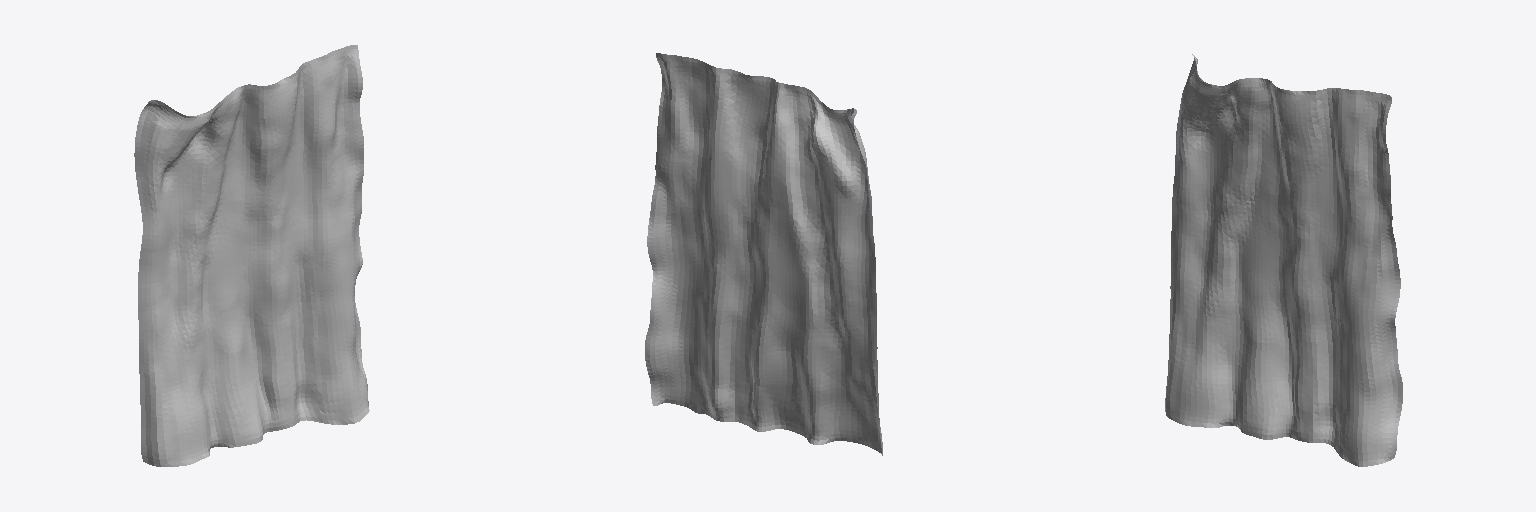
File: SM_Curtain_highpoly_02_2.OBJ
3 views of the same model, side by side, from view 1: azimuth 30°, elevation 25°; view 2: azimuth 150°, elevation 25°; view 3: azimuth 330°, elevation 25° (orthographic).
Visible parts, largest first — view 1: Group1; view 2: Group1; view 3: Group1.
Part boxes in pixels (bbox=[...]): Group1: bbox=[134, 45, 369, 466]; Group1: bbox=[645, 53, 882, 455]; Group1: bbox=[1165, 54, 1402, 466].
Size of the model in its own units: 2.18 by 3.32 by 0.4586.